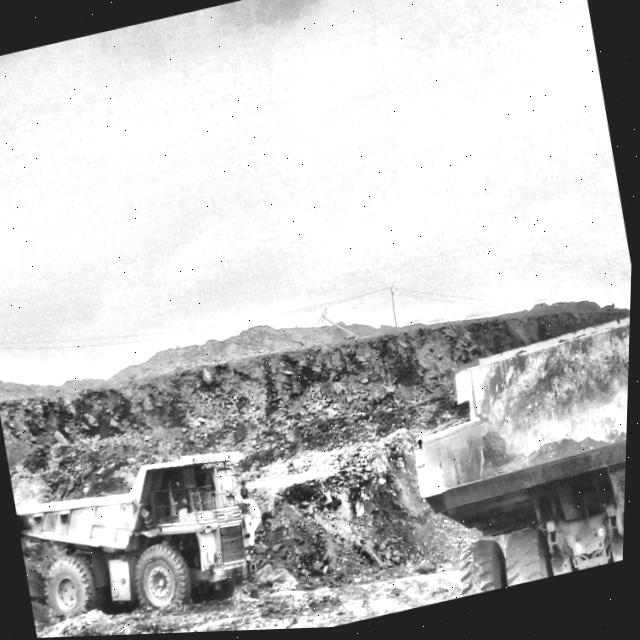dump_truck: (427, 324, 632, 600), (20, 462, 260, 620)
